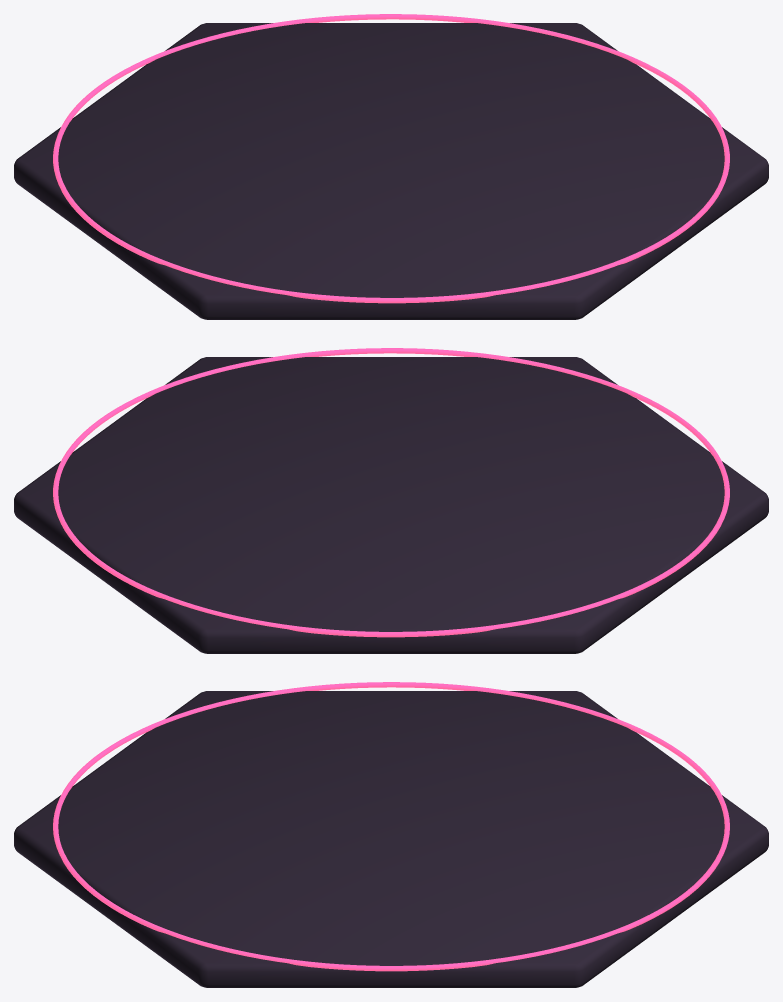
File: room.glb
3 renders of one model, top to bottom at view 1: azimuth 30°, elevation 25°; view 2: azimuth 150°, elevation 25°; view 3: azimuth 270°, elevation 25°, orthographic.
Visible parts, largest first — view 1: Cylinder, Torus; view 2: Cylinder, Torus; view 3: Cylinder, Torus.
Part boxes in pixels (left/top/right/bottom): Cylinder: left=14, top=23, right=768, bottom=319; Torus: left=53, top=14, right=729, bottom=303; Cylinder: left=14, top=357, right=768, bottom=653; Torus: left=53, top=348, right=729, bottom=637; Cylinder: left=14, top=691, right=768, bottom=987; Torus: left=53, top=682, right=729, bottom=971.
Size of the model in its own units: 12.5 by 0.5576 by 13.94.
